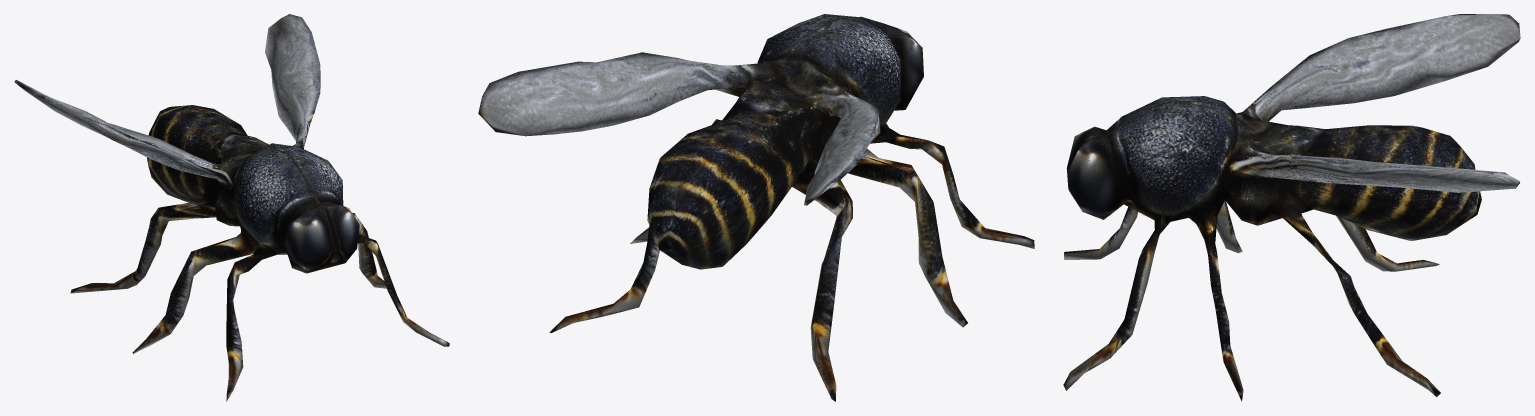
The model's file is fliege.obj.
3 views of the same model, side by side, from view 1: azimuth 30°, elevation 25°; view 2: azimuth 150°, elevation 25°; view 3: azimuth 270°, elevation 25° (orthographic). The views are drawn at different scales.
Visible parts, largest first — view 1: Fly_Low_Poly; view 2: Fly_Low_Poly; view 3: Fly_Low_Poly.
Boxes of the visible parts, box(x1,y1,x2,y2) form: Fly_Low_Poly: box(14, 14, 449, 401); Fly_Low_Poly: box(478, 14, 1034, 401); Fly_Low_Poly: box(1063, 14, 1520, 401).
Size of the model in its own units: 0.00575 by 0.00399 by 0.00684.
